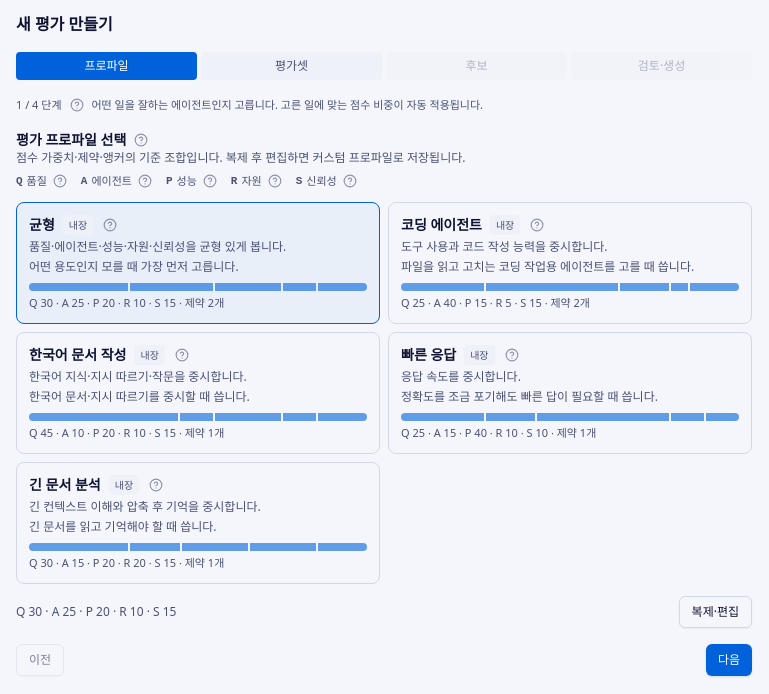
it: EvalRunWizard › disables future step headers until each step is complete
Expected: the button "프로파일" is enabled, left=16, top=52, right=197, bottom=80
Expected: the button "평가셋" is enabled, left=201, top=52, right=382, bottom=80
# 다음으로 평가셋에 가면 quick이 자동 선택되어 후보 헤더가 열린다
Click the button "다음" at (729, 660), box left=706, top=644, right=752, bottom=676
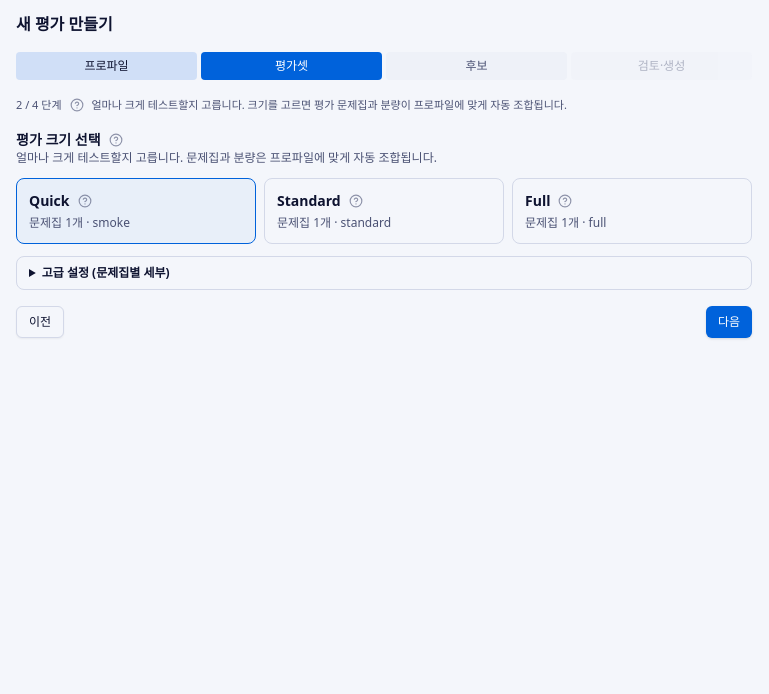
Expected: the button "검토·생성" is disabled, left=571, top=52, right=752, bottom=80
Expected: the button "후보" is enabled, left=386, top=52, right=567, bottom=80
# 후보를 고르면 검토 헤더까지 열린다
Click the button "다음" at (729, 322), box left=706, top=306, right=752, bottom=338
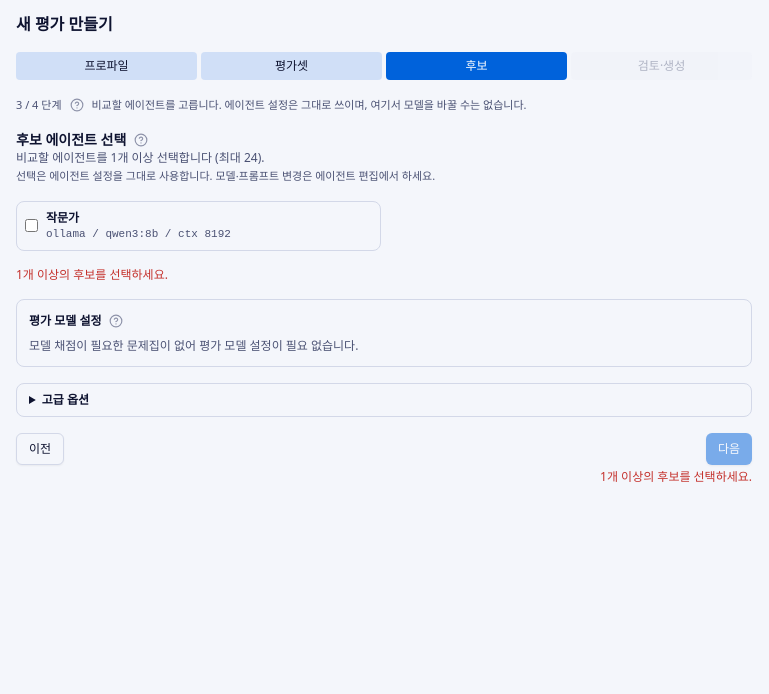
Click the checkbox named "작문가" at (32, 226), box left=25, top=219, right=38, bottom=232
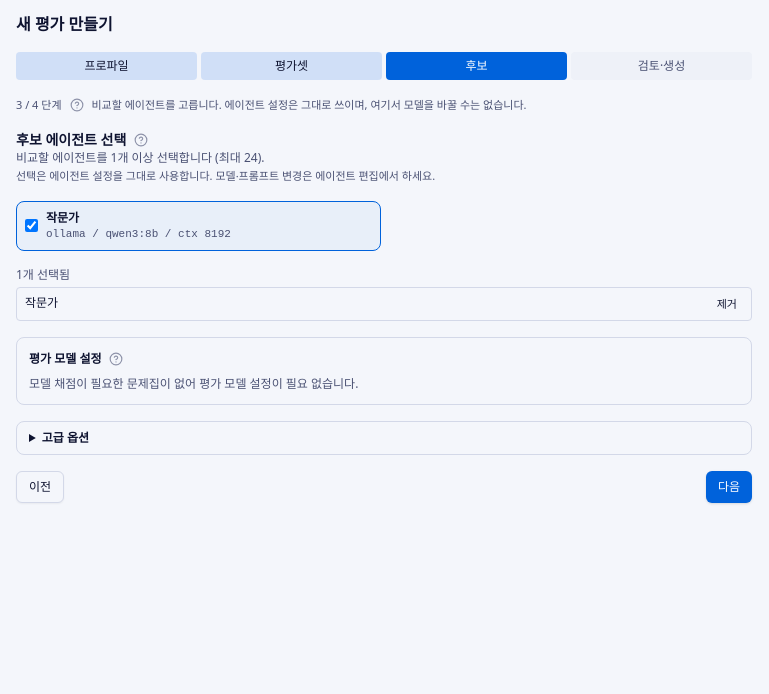
Expected: the button "검토·생성" is enabled, left=571, top=52, right=752, bottom=80
